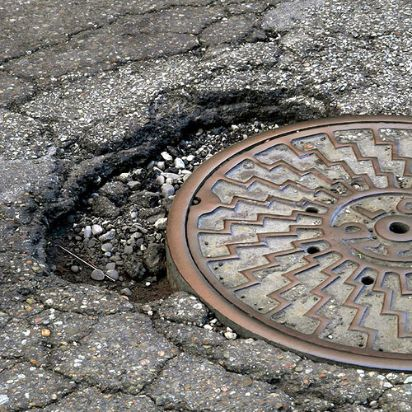pothole: (29, 81, 335, 303)
